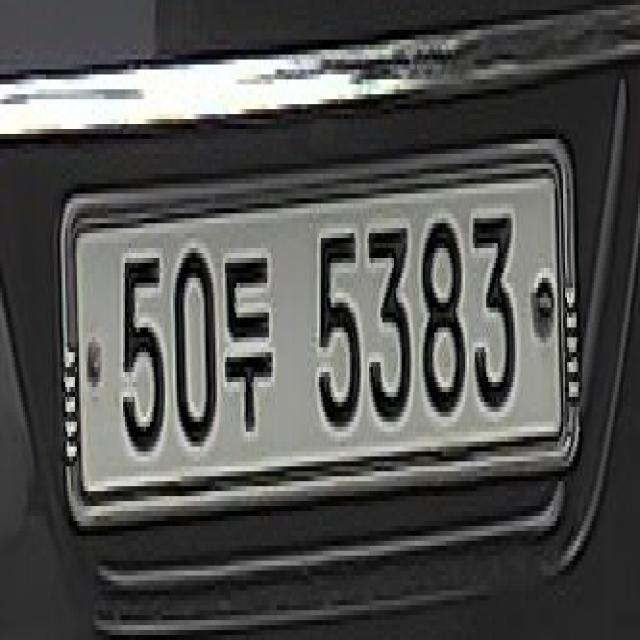0: (170, 238, 220, 450)
3: (471, 190, 524, 422), (364, 222, 416, 432)
5: (316, 207, 361, 442), (118, 250, 168, 454)
8: (418, 200, 470, 426)
du: (222, 227, 287, 452)
license_plate: (52, 175, 582, 502)
